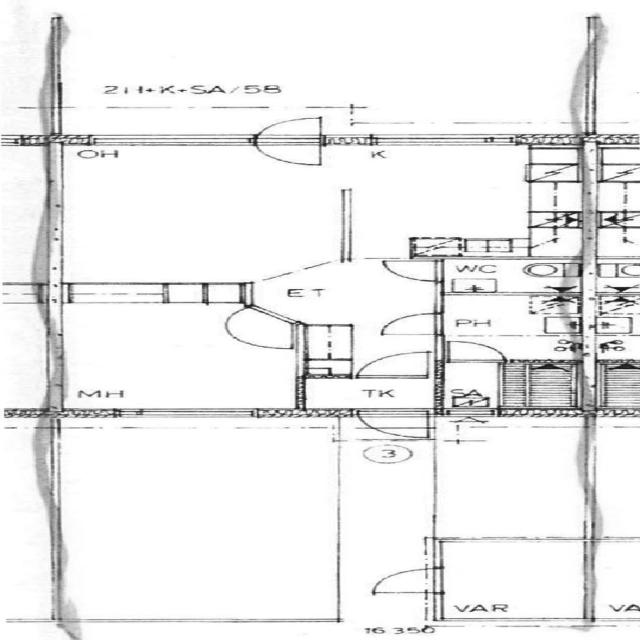door: (216, 306, 302, 352), (250, 116, 326, 168), (351, 408, 436, 441), (353, 350, 432, 380), (363, 566, 442, 595), (374, 311, 446, 338), (377, 258, 446, 284), (440, 338, 506, 363)
window: (77, 132, 255, 150), (116, 404, 264, 422), (366, 134, 515, 150), (442, 616, 568, 630), (443, 534, 578, 546), (419, 537, 448, 570)
zone: (46, 142, 347, 284), (51, 291, 300, 413), (337, 144, 583, 259), (431, 539, 591, 625), (436, 295, 577, 360), (434, 360, 584, 410), (434, 257, 574, 295), (297, 377, 438, 413), (578, 298, 640, 363), (594, 365, 640, 410), (594, 260, 638, 301)
